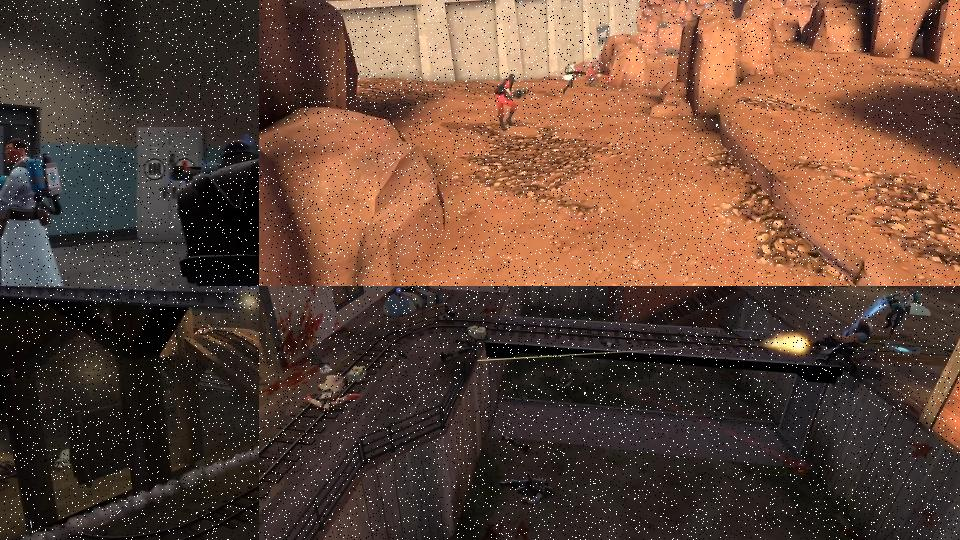Enemy: (139, 138, 259, 286), (0, 136, 92, 286), (810, 317, 876, 376), (305, 372, 364, 417), (882, 286, 933, 338), (494, 469, 558, 508), (493, 73, 530, 132), (561, 61, 586, 93), (557, 371, 577, 406), (586, 63, 611, 90), (53, 445, 75, 472)
